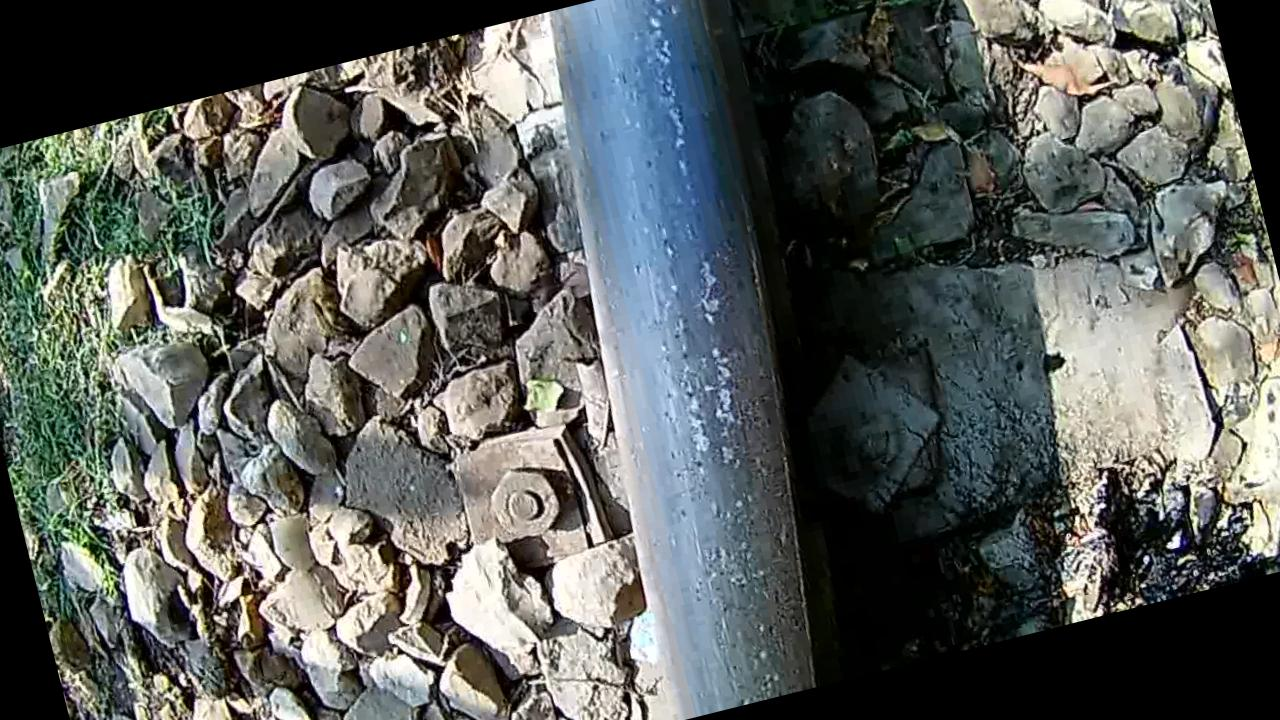clip_missing: (524, 0, 877, 716)
